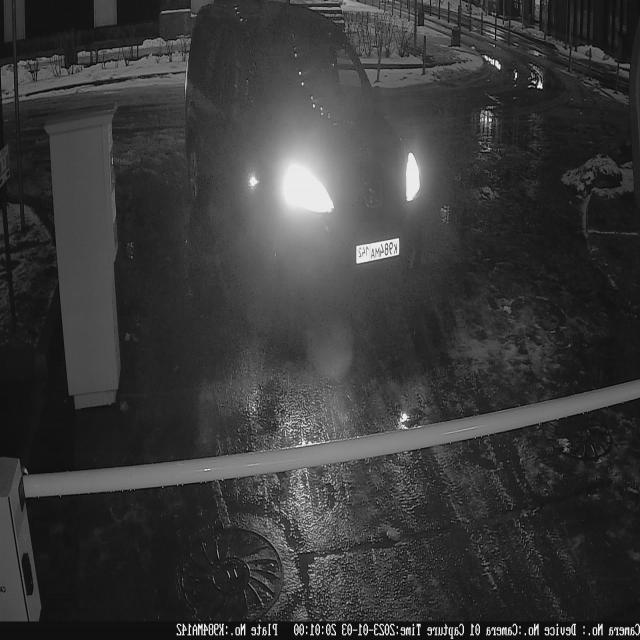car-plate-numbers: (356, 234, 405, 269)
